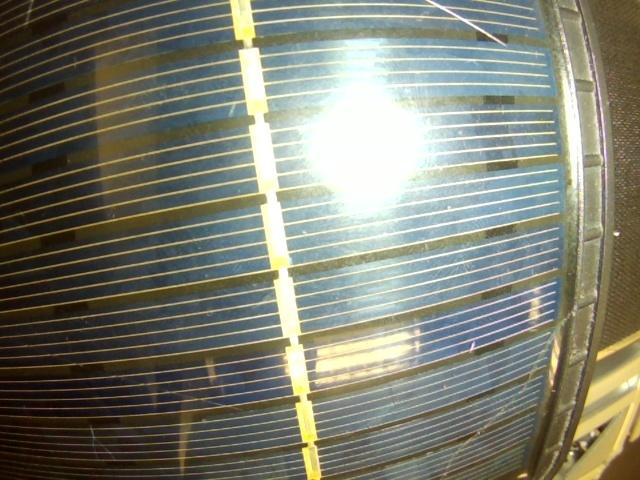crack: (436, 334, 553, 479), (425, 0, 506, 47), (23, 0, 34, 25), (228, 105, 236, 116), (469, 342, 475, 351)
